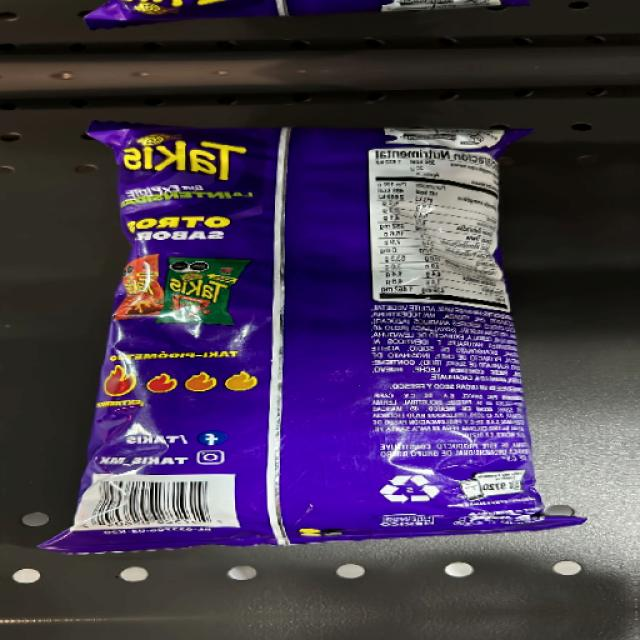productoAtras: (106, 122, 499, 532)
